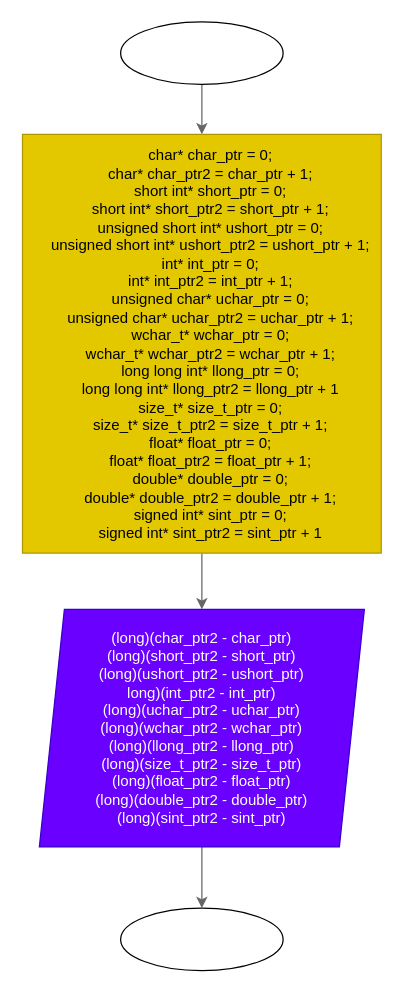
This 403x993 diagram has some shape labels left out. Each missing label, with the centre of its shape:
"Конец" goes at point 201,939.
"Начало" goes at point 201,52.
